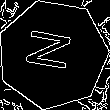N_E: (24, 30, 81, 78)
